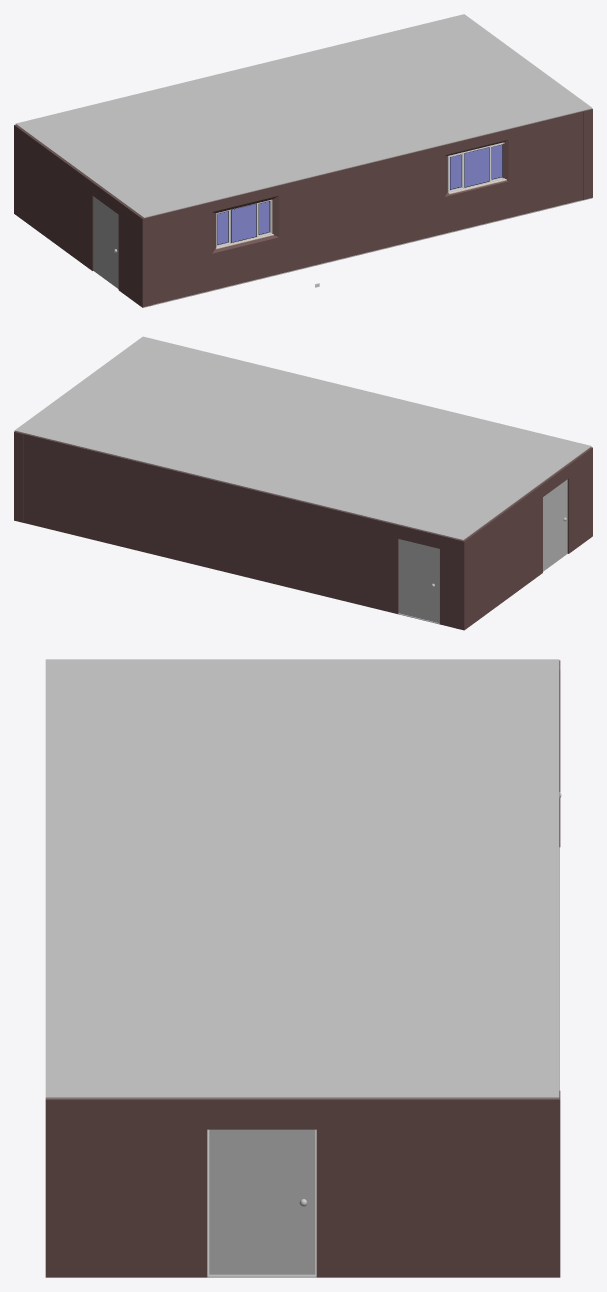
Rendered from Salon_con _ventanas (2).fbx.
The picture shows the model from 3 angles, top to bottom: view 1: azimuth 30°, elevation 25°; view 2: azimuth 150°, elevation 25°; view 3: azimuth 270°, elevation 25°; orthographic projection. The views are drawn at different scales.
Parts seen in each view (by area): view 1: Techo, Pared_4, Pared_1, Window.001, Window, Puerta_1, Pared_3, Suelo; view 2: Techo, Pared_2, Pared_1, Puerta_2, Puerta_1, Pared_3; view 3: Techo, Pared_3, Puerta_3, Suelo.
Boxes of the visible parts, x1,y1,x2,y2 form: Techo: [16, 14, 592, 217]; Pared_4: [148, 110, 586, 304]; Pared_1: [14, 124, 152, 307]; Window.001: [447, 142, 506, 194]; Window: [215, 199, 273, 249]; Puerta_1: [93, 196, 118, 288]; Pared_3: [583, 109, 592, 199]; Suelo: [94, 197, 592, 307]; Techo: [14, 336, 591, 540]; Pared_2: [18, 432, 459, 627]; Pared_1: [454, 447, 592, 630]; Puerta_2: [398, 539, 439, 622]; Puerta_1: [543, 479, 567, 570]; Pared_3: [14, 431, 23, 522]; Techo: [45, 659, 559, 1098]; Pared_3: [45, 1090, 560, 1277]; Puerta_3: [209, 1129, 315, 1274]; Suelo: [207, 1129, 316, 1277].
Bounding box in the file's own units: 29431 × 10013 × 14555.
